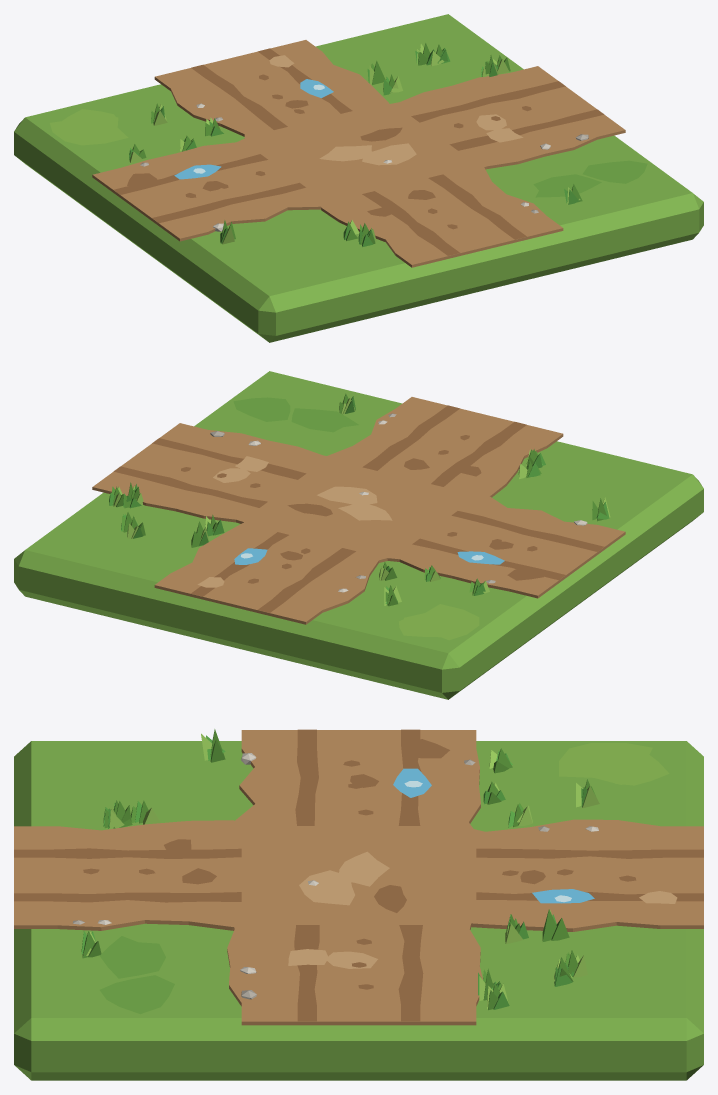
The model's file is road_l1_b.fbx.
The picture shows the model from 3 angles, top to bottom: view 1: azimuth 30°, elevation 25°; view 2: azimuth 150°, elevation 25°; view 3: azimuth 270°, elevation 25°; orthographic projection. The views are drawn at different scales.
Parts seen in each view (by area): view 1: road_l1_b, Road_YPlus, Road_XPlus, Road_XMinus, Road_YMinus; view 2: road_l1_b, Road_XPlus, Road_YMinus, Road_XMinus, Road_YPlus; view 3: road_l1_b, Road_XMinus, Road_YMinus, Road_XPlus, Road_YPlus.
Boxes of the visible parts, left/top/right/bottom form: road_l1_b: left=14, top=14, right=703, bottom=342; Road_YPlus: left=320, top=161, right=563, bottom=267; Road_XPlus: left=92, top=132, right=352, bottom=244; Road_XMinus: left=380, top=55, right=625, bottom=169; Road_YMinus: left=154, top=40, right=402, bottom=138; road_l1_b: left=14, top=371, right=703, bottom=699; Road_XPlus: left=367, top=487, right=625, bottom=598; Road_YMinus: left=154, top=514, right=397, bottom=624; Road_XMinus: left=92, top=423, right=353, bottom=523; Road_YPlus: left=306, top=397, right=563, bottom=497; road_l1_b: left=14, top=741, right=703, bottom=1080; Road_XMinus: left=227, top=910, right=509, bottom=1025; Road_YMinus: left=441, top=803, right=703, bottom=944; Road_XPlus: left=201, top=729, right=512, bottom=840; Road_YPlus: left=14, top=800, right=276, bottom=930.
Size of the model in its own units: 1 by 0.1468 by 1.
